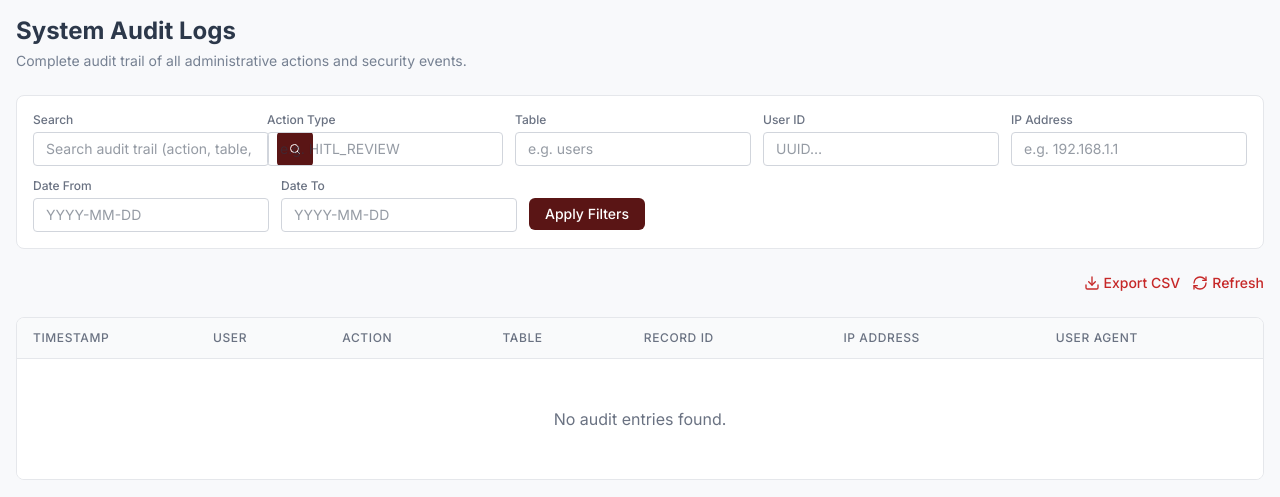
Test case: Admin Audit page › clears all filters on Clear Filters click
Expected: the heading "System Audit Logs" is shown, [16,16,236,45]
In the field named "Filter by action type": (385, 149) [267,132,503,166], type "LOGIN"
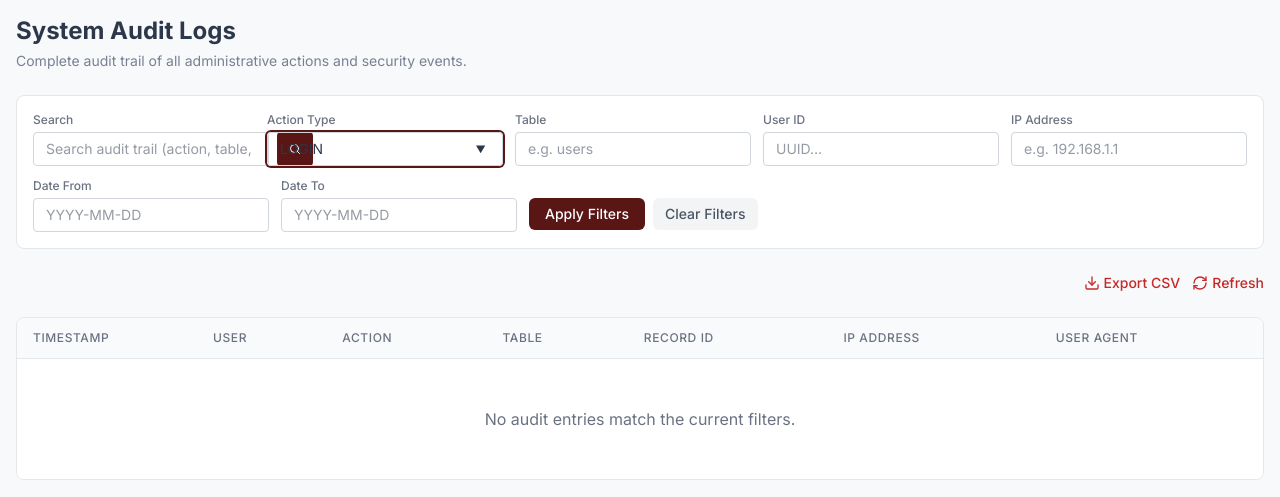
In the field named "Filter by IP address": (1129, 149) [1011,132,1247,166], type "10.0.0.1"
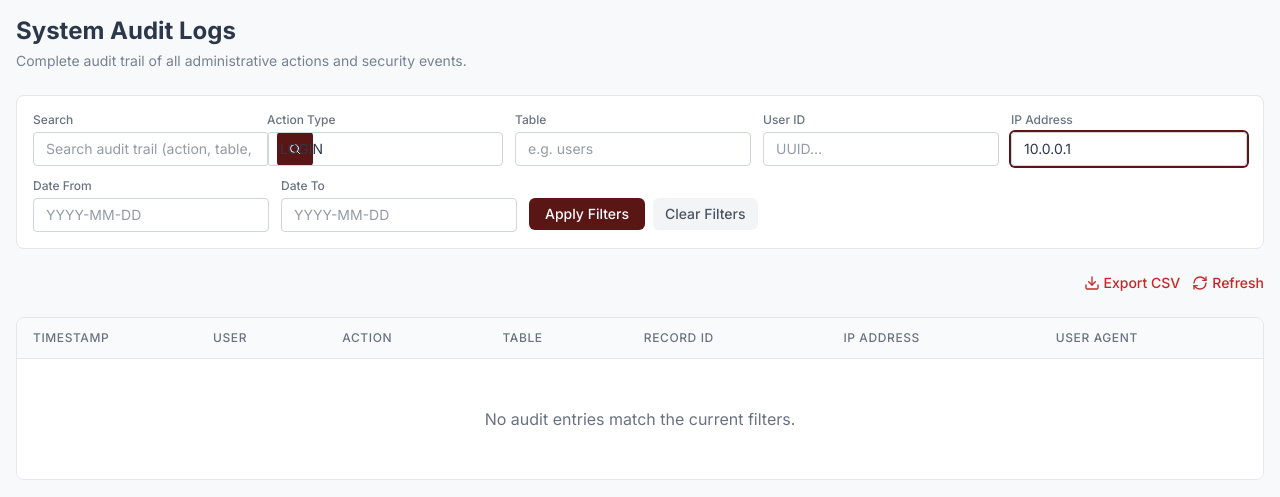
Click the button "Clear Filters": (705, 214) [653,198,758,230]
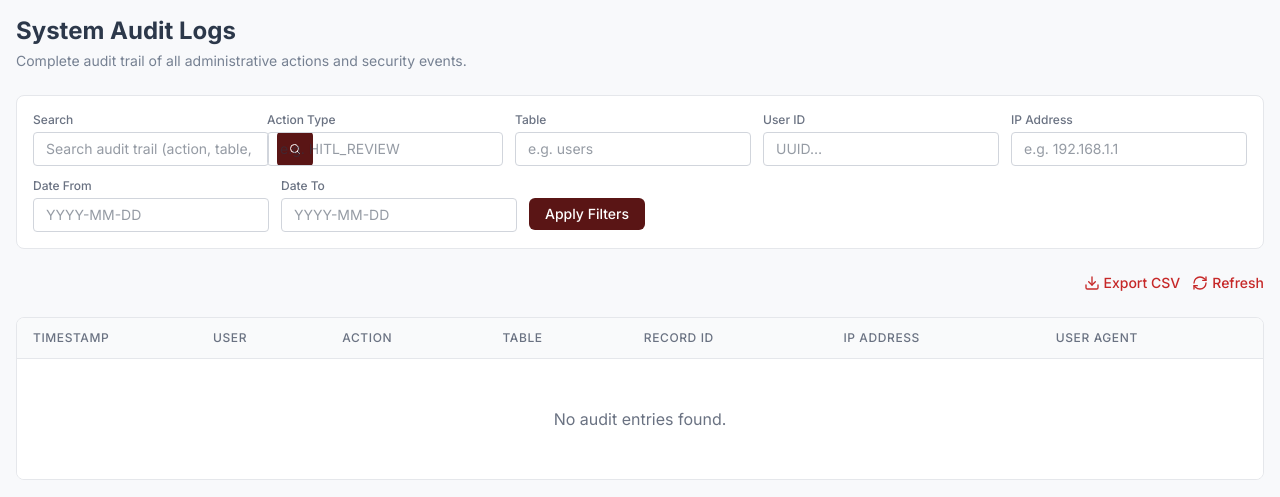
Result: the field named "Filter by action type" is empty at [267,132,503,166]
Result: the field named "Filter by IP address" is empty at [1011,132,1247,166]
Result: the button "Clear Filters" is gone
